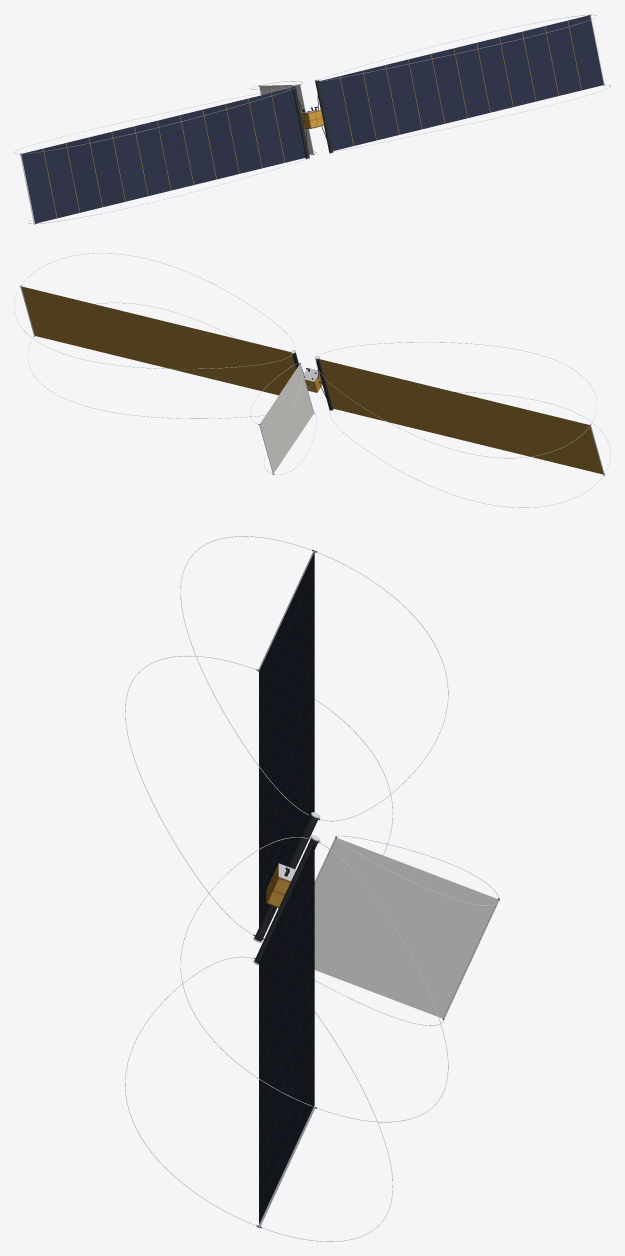
The model's file is satellite.glb.
3 views of the same model, one above another, from view 1: azimuth 30°, elevation 25°; view 2: azimuth 150°, elevation 25°; view 3: azimuth 270°, elevation 25° (orthographic). The views are drawn at different scales.
Visible parts, largest first — view 1: Left wing, Right wing, Radiator, Body; view 2: Left wing, Right wing, Radiator; view 3: Radiator, Right wing, Left wing.
Boxes of the visible parts, <box> form: Left wing: <box>14,85,310,224</box>; Right wing: <box>314,14,610,153</box>; Radiator: <box>250,81,316,155</box>; Body: <box>301,109,324,128</box>; Left wing: <box>314,342,610,507</box>; Right wing: <box>14,253,303,418</box>; Radiator: <box>250,363,316,474</box>; Radiator: <box>314,835,499,1025</box>; Right wing: <box>125,835,448,1241</box>; Left wing: <box>125,536,448,942</box>.
Size of the model in its own units: 70.12 by 14.19 by 19.94.
11 materials, 2 textured.
